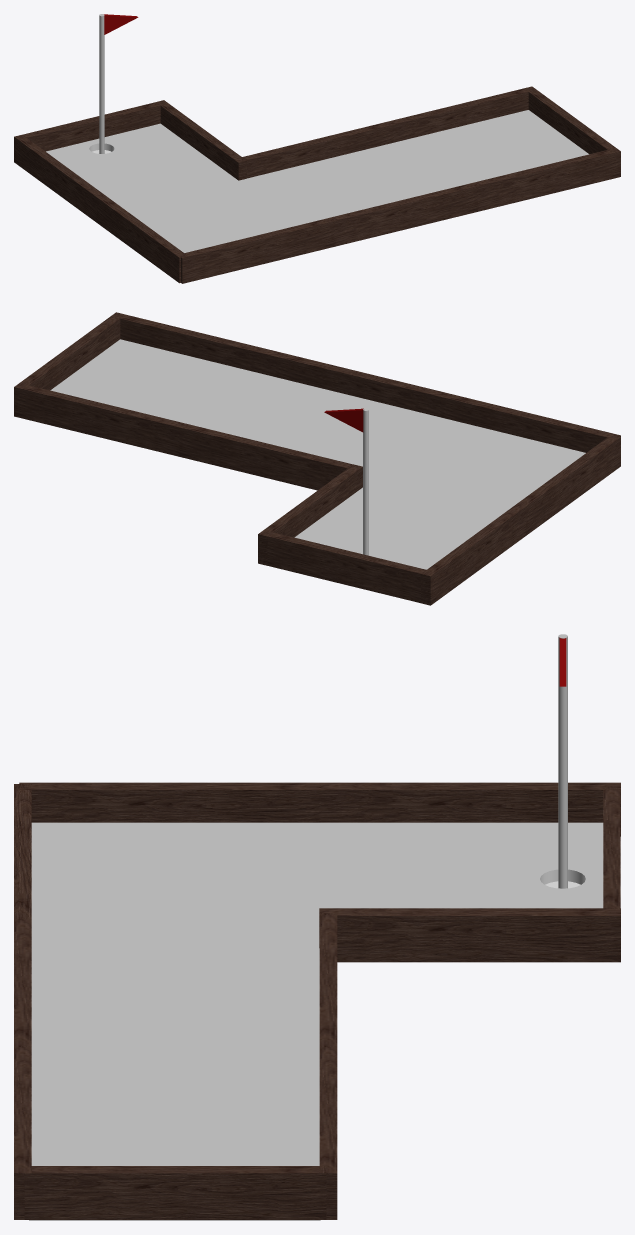
File: Hole1.fbx
3 renders of one model, top to bottom at view 1: azimuth 30°, elevation 25°; view 2: azimuth 150°, elevation 25°; view 3: azimuth 270°, elevation 25°, orthographic. The views are drawn at different scales.
Parts seen in each view (by area): view 1: pCube25; view 2: pCube25; view 3: pCube25.
Boxes of the visible parts, box(x1,y1,x2,y2) form: pCube25: box(14, 14, 620, 283); pCube25: box(14, 312, 620, 605); pCube25: box(14, 634, 620, 1220).
Bounding box in the file's own units: 23.14 × 7.12 × 15.19.
